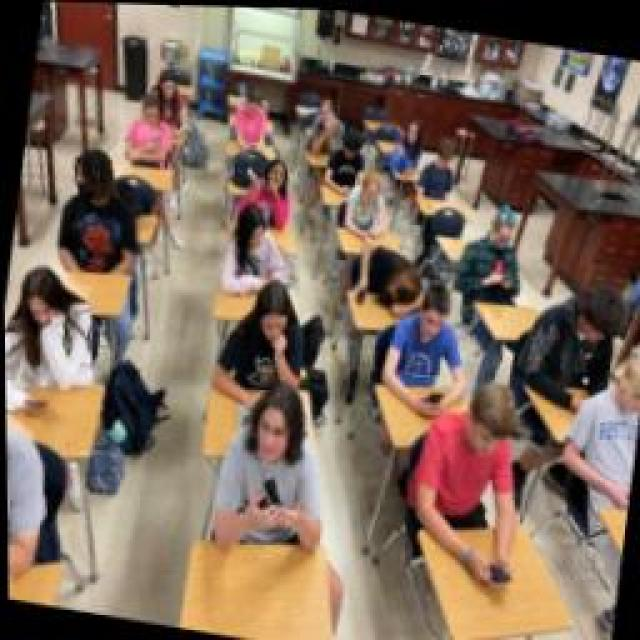phone: (395, 365, 537, 590), (2, 255, 102, 420), (550, 340, 640, 512), (375, 275, 475, 417), (452, 195, 528, 305), (117, 88, 175, 172), (235, 152, 293, 232), (338, 165, 390, 240), (228, 85, 270, 153), (305, 93, 347, 155), (385, 112, 423, 172)
